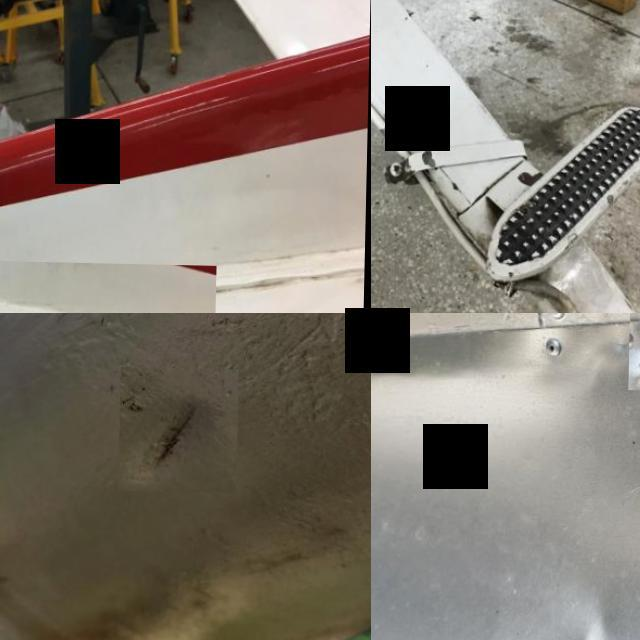Crack: (0, 255, 218, 313), (629, 313, 640, 389)
Dent: (566, 329, 640, 640), (120, 366, 240, 492), (498, 577, 640, 640)
